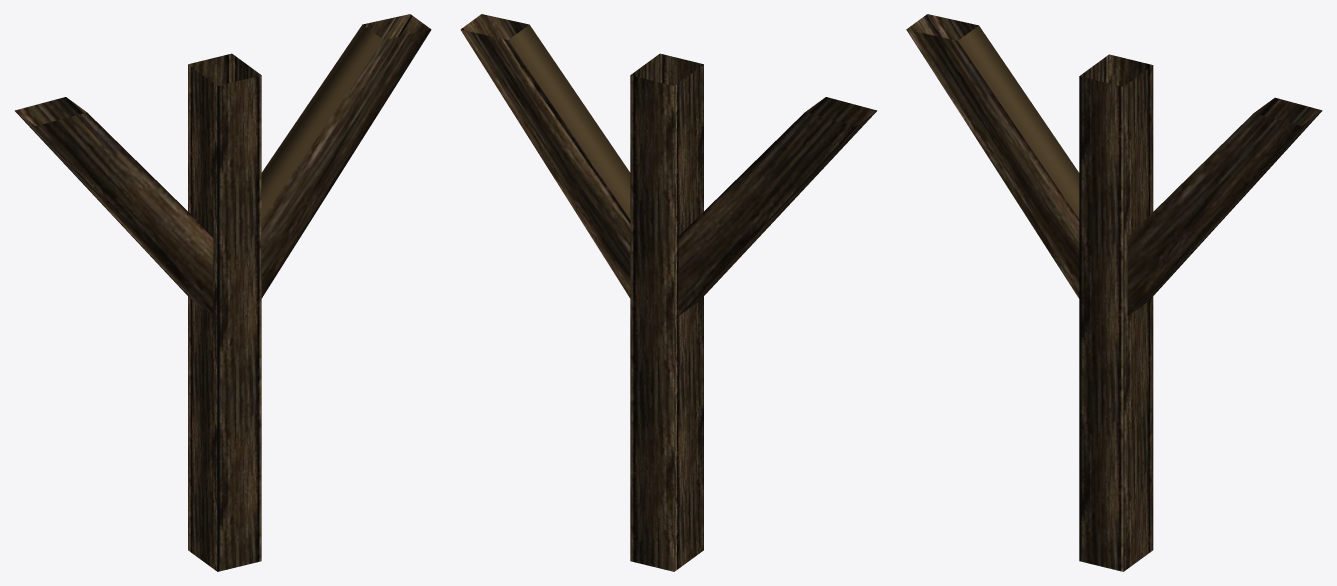
Rendered from OC_LOB_PLANK_INDOOR_LARGE.glb.
The picture shows the model from 3 angles, left to right: view 1: azimuth 30°, elevation 25°; view 2: azimuth 150°, elevation 25°; view 3: azimuth 330°, elevation 25°; orthographic projection.
Parts seen in each view (by area): view 1: Mesh; view 2: Mesh; view 3: Mesh.
Part boxes in pixels (left/top/right/bottom): Mesh: left=14, top=14, right=431, bottom=571; Mesh: left=460, top=14, right=877, bottom=571; Mesh: left=906, top=14, right=1322, bottom=571.
Size of the model in its own units: 5.37 by 6.32 by 0.6999.
1 material, 1 textured.
